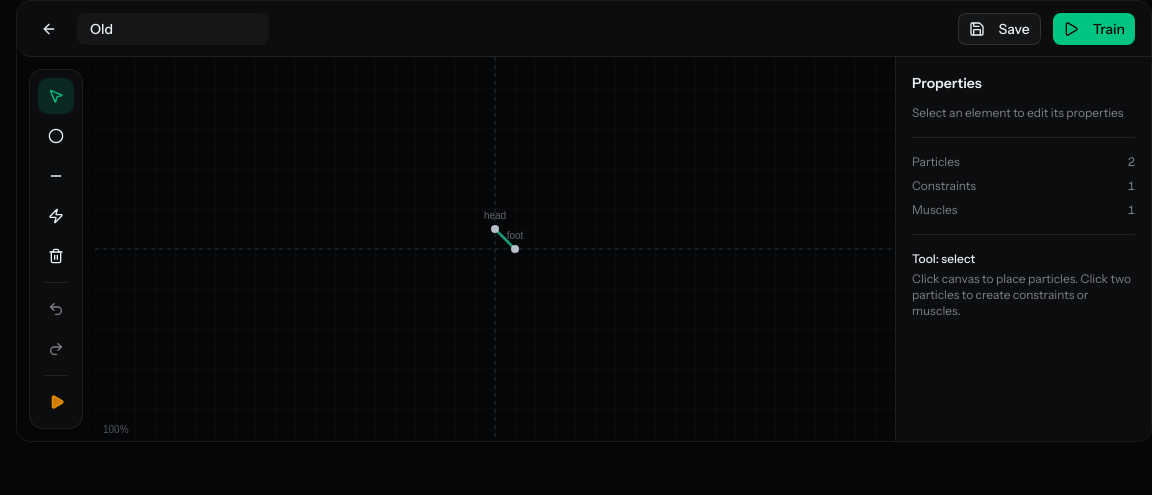
does not navigate when saving fails (http)
The width and height of the screenshot is (1152, 495).
Click the button "Train" at (1094, 28), box top-left (1053, 12), bottom-right (1135, 44)
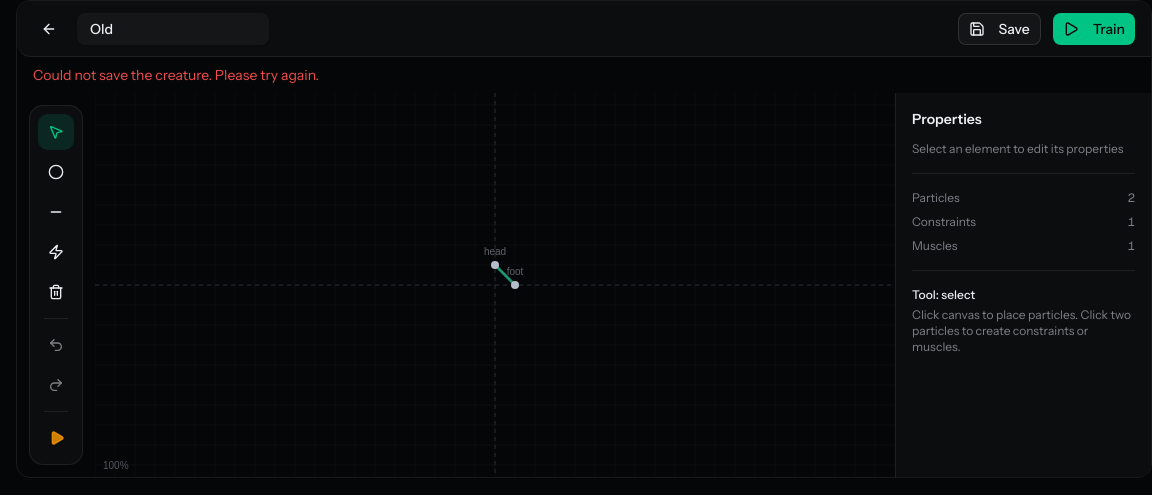
Now the message "Could not save the creature. Please try again." is shown, box top-left (33, 66), bottom-right (319, 84)
